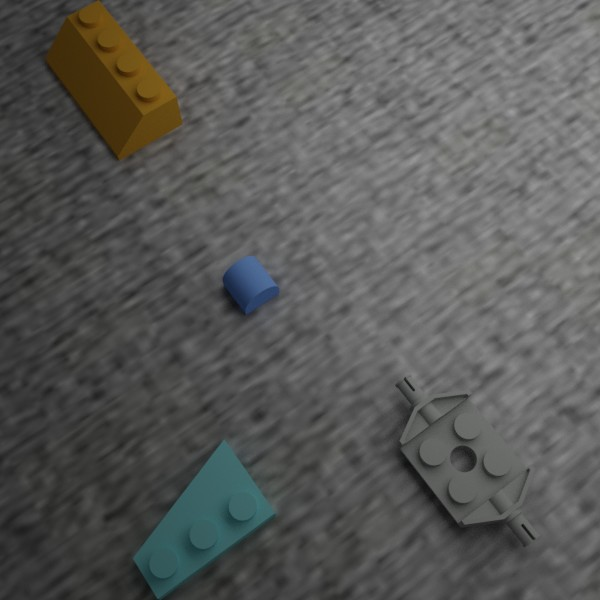lego: (395, 373, 540, 547), (132, 439, 275, 599), (45, 0, 182, 160), (222, 255, 279, 315)
